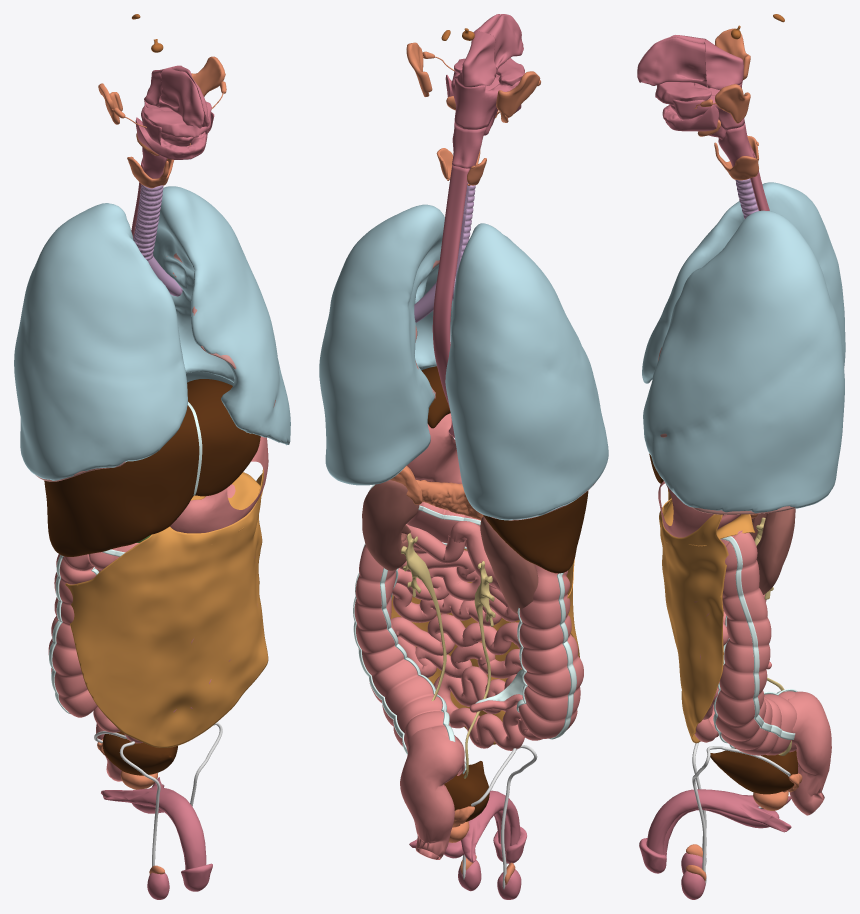
The model's file is visceral.glb.
3 renders of one model, left to right at view 1: azimuth 30°, elevation 25°; view 2: azimuth 150°, elevation 25°; view 3: azimuth 270°, elevation 25°, orthographic. The views are drawn at different scales.
Visible parts, largest first — view 1: Pleura surface 0, Greater omentum surface 0, Liver surface 0, Ascending colon surface 0, Corpus cavernosum of penis surface 0, Stomach surface 0, Gingiva surface 0, Mucosa of nasal cavity surface 0, Urinary bladder surface 0, Trachea surface 0, Mesocolon surface 0, Parotid gland.l surface 0 (+5 smaller); view 2: Pleura surface 0, Jejunum surface 0, Descending colon surface 0, Ascending colon surface 0, Sigmoid colon surface 0, Liver surface 0, Oesophagus surface 0, Kidney.l surface 0, Kidney.r surface 0, Stomach surface 0, Oropharynx surface 0, Mesocolic taenia surface 0 (+19 smaller); view 3: Pleura surface 0, Greater omentum surface 0, Descending colon surface 0, Sigmoid colon surface 0, Corpus cavernosum of penis surface 0, Mucosa of nasal cavity surface 0, Urinary bladder surface 0, Kidney.l surface 0, Gingiva surface 0, Mesocolic taenia surface 0, Nasopharynx surface 0, Stomach surface 0 (+13 smaller).
Boxes of the visible parts, box(x1,y1,x2,y2) form: Pleura surface 0: box(14, 186, 290, 480); Greater omentum surface 0: box(65, 469, 268, 747); Liver surface 0: box(44, 379, 260, 556); Ascending colon surface 0: box(48, 554, 97, 717); Corpus cavernosum of penis surface 0: box(101, 777, 206, 869); Stomach surface 0: box(170, 436, 268, 533); Gingiva surface 0: box(135, 101, 211, 159); Mucosa of nasal cavity surface 0: box(159, 65, 210, 128); Urinary bladder surface 0: box(102, 731, 177, 775); Trachea surface 0: box(133, 184, 163, 260); Mesocolon surface 0: box(227, 472, 262, 531); Parotid gland.l surface 0: box(191, 56, 225, 96); Pleura surface 0: box(319, 204, 608, 520); Jejunum surface 0: box(391, 524, 542, 750); Descending colon surface 0: box(354, 544, 464, 775); Ascending colon surface 0: box(518, 564, 583, 738); Sigmoid colon surface 0: box(400, 727, 464, 859); Liver surface 0: box(421, 366, 588, 573); Oesophagus surface 0: box(432, 165, 469, 438); Kidney.l surface 0: box(362, 480, 419, 570); Kidney.r surface 0: box(480, 516, 538, 614); Stomach surface 0: box(407, 413, 462, 483); Oropharynx surface 0: box(451, 71, 520, 129); Mesocolic taenia surface 0: box(353, 484, 576, 754); Pleura surface 0: box(642, 182, 845, 513); Greater omentum surface 0: box(659, 489, 728, 743); Descending colon surface 0: box(715, 530, 796, 755); Sigmoid colon surface 0: box(788, 691, 831, 815); Corpus cavernosum of penis surface 0: box(646, 789, 791, 854); Mucosa of nasal cavity surface 0: box(637, 35, 706, 86); Urinary bladder surface 0: box(710, 748, 798, 794); Kidney.l surface 0: box(756, 508, 795, 594); Gingiva surface 0: box(655, 82, 718, 131); Mesocolic taenia surface 0: box(720, 536, 795, 739); Nasopharynx surface 0: box(705, 39, 743, 89); Stomach surface 0: box(658, 481, 740, 537).
Bounding box in the file's own units: 0.2634 × 0.8931 × 0.1926.
